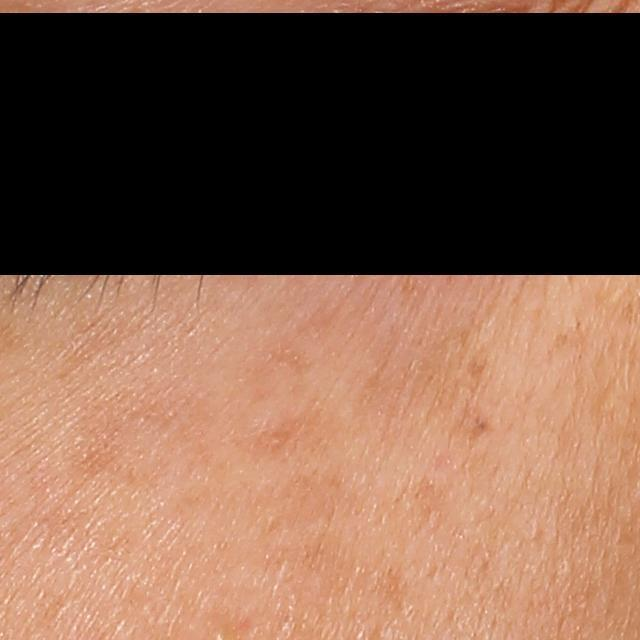melasma: (343, 314, 506, 453), (65, 373, 227, 483), (214, 399, 357, 470), (250, 461, 371, 541), (388, 467, 459, 547)
